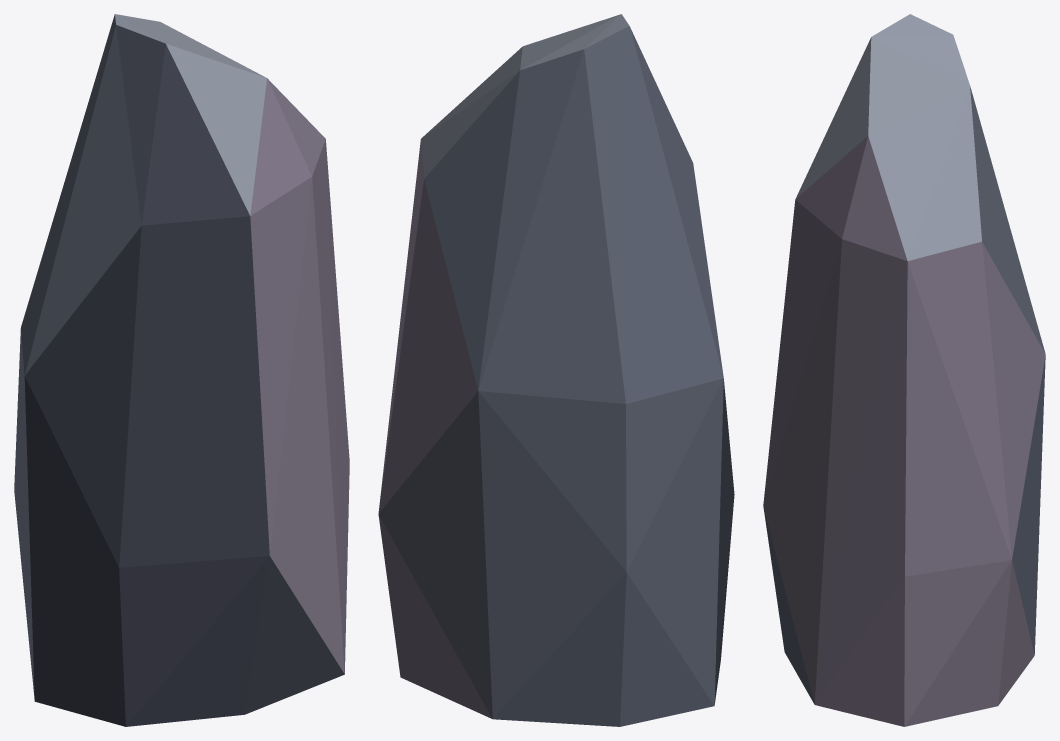
Rendered from TW_ROCK_UPRIGHT_A_LOD1.glb.
3 renders of one model, left to right at view 1: azimuth 30°, elevation 25°; view 2: azimuth 150°, elevation 25°; view 3: azimuth 270°, elevation 25°, orthographic. The views are drawn at different scales.
Visible parts, largest first — view 1: TW_ROCK_UPRIGHT_A_LOD1; view 2: TW_ROCK_UPRIGHT_A_LOD1; view 3: TW_ROCK_UPRIGHT_A_LOD1.
Boxes of the visible parts, left/top/right/bottom form: TW_ROCK_UPRIGHT_A_LOD1: left=14, top=14, right=349, bottom=726; TW_ROCK_UPRIGHT_A_LOD1: left=378, top=14, right=734, bottom=726; TW_ROCK_UPRIGHT_A_LOD1: left=763, top=14, right=1045, bottom=726.
Size of the model in its own units: 0.8 by 1.55 by 0.65.
1 material, 1 textured.
